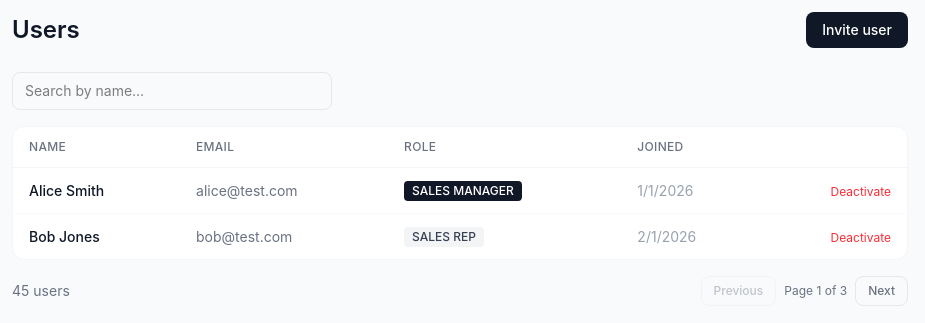
Scenario: UsersPage › navigates to next page when Next is clicked
Expected: the text "Alice Smith" is shown, [13, 168, 180, 214]
Click the button "Next".
click(882, 291)  # box [855, 276, 908, 306]
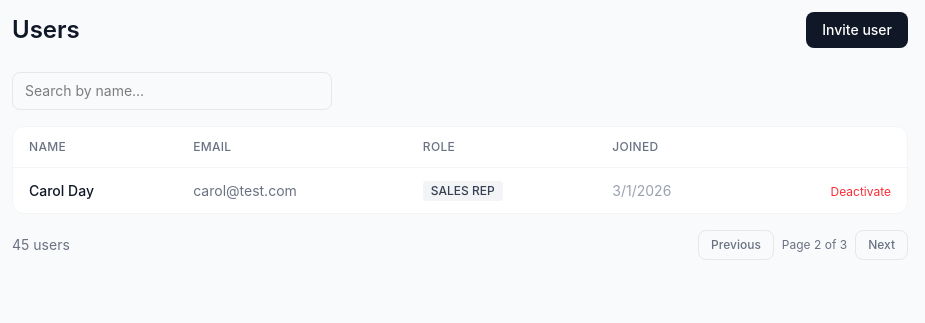
Expected: the text "Carol Day" is shown, [13, 168, 177, 213]
Expected: the text "Page 2 of 3" is shown, [782, 237, 847, 253]
